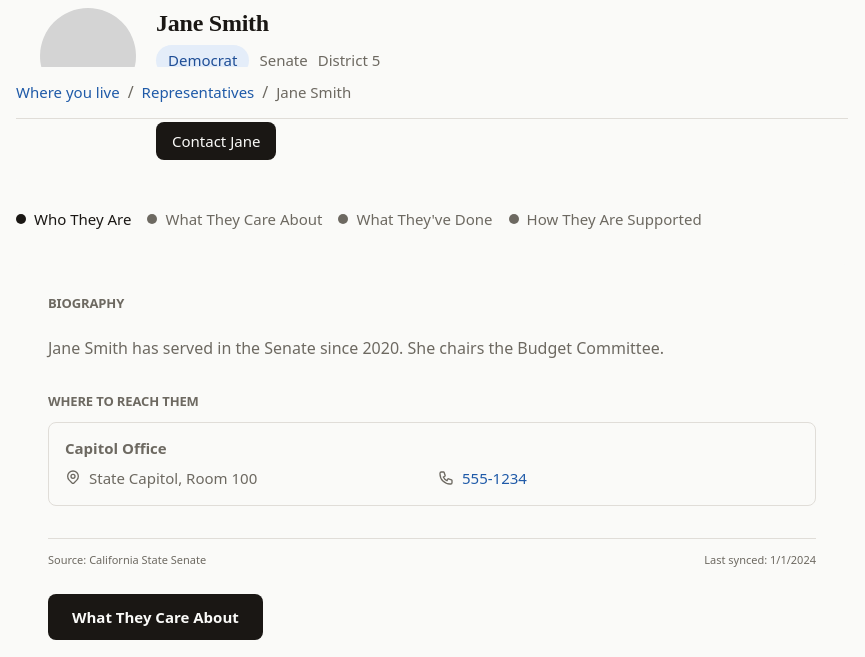
Test case: RepresentativeDetailPage › layer content › What They Care About shows placeholder when no committees
(page scrolled)
What coordinates should you click on to do the following:
click the button "What They Care About" below "Source:"
I would click on:
 (155, 617)
Its box is [48,594,263,640].
(page scrolled)
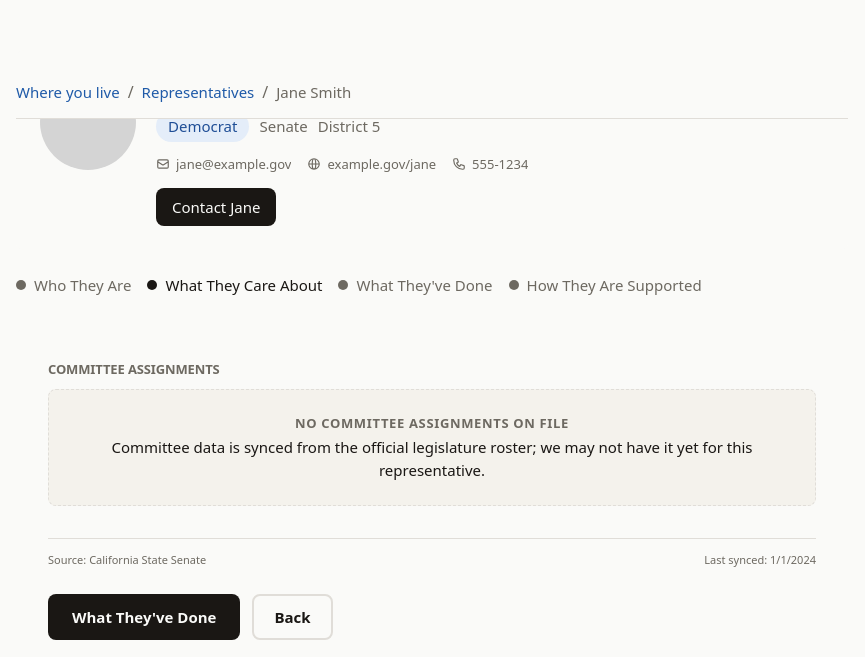
Check: the text "No committee assignments on file" is shown, box [295,414,569,432]
